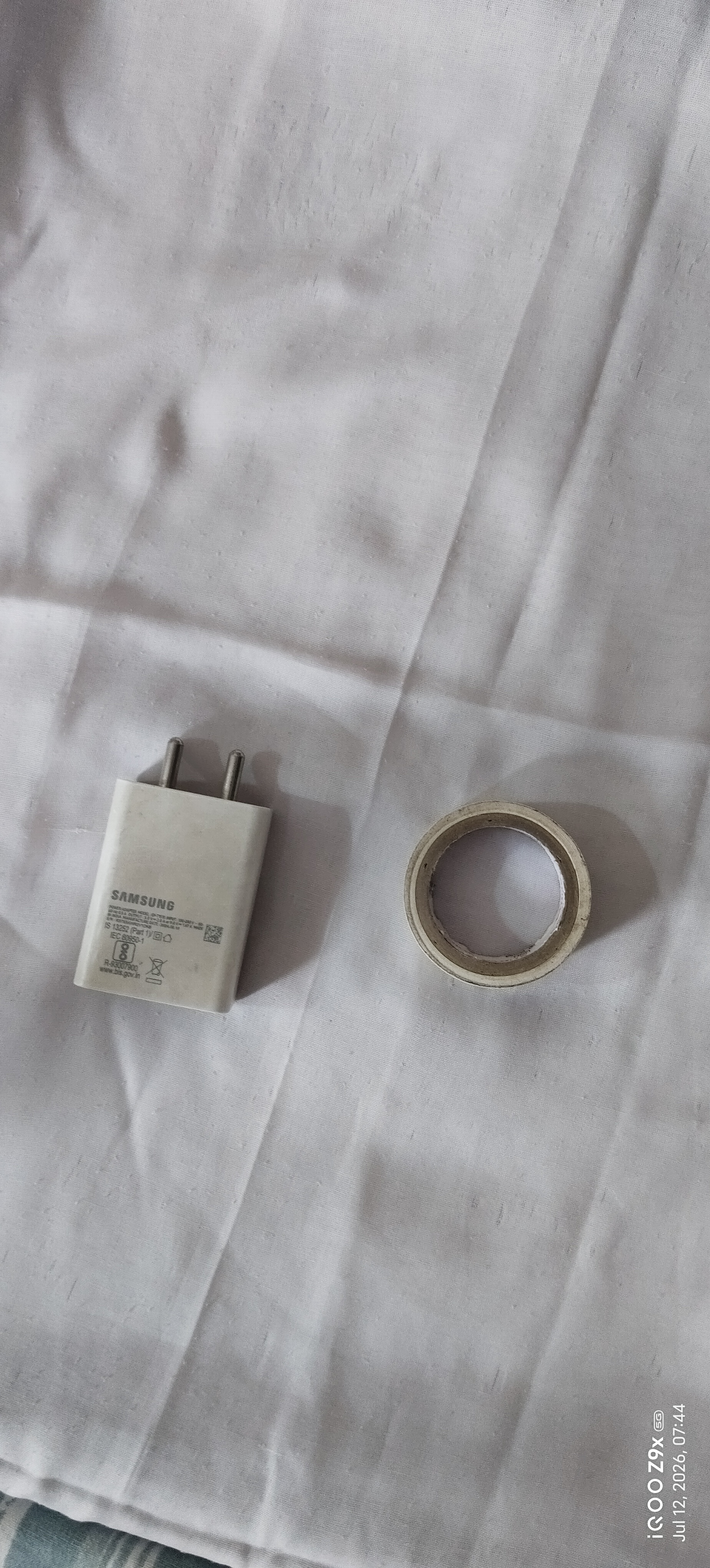charger: (55, 701, 301, 1067)
tape_roll: (385, 774, 608, 1023)
